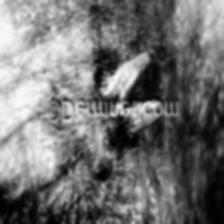Potentially Malignant Skin Tumors: (104, 47, 158, 95), (112, 118, 158, 140)
